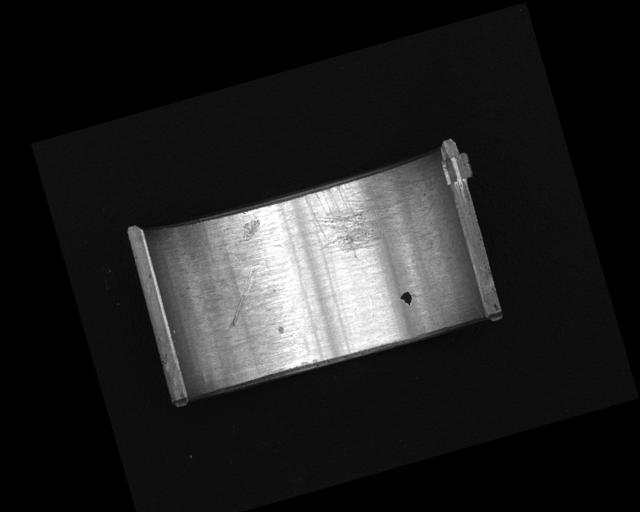blot: (398, 290, 414, 307)
bruise: (236, 217, 264, 243), (276, 324, 286, 336)
nick: (217, 268, 267, 327)
scratch: (303, 163, 433, 269)
